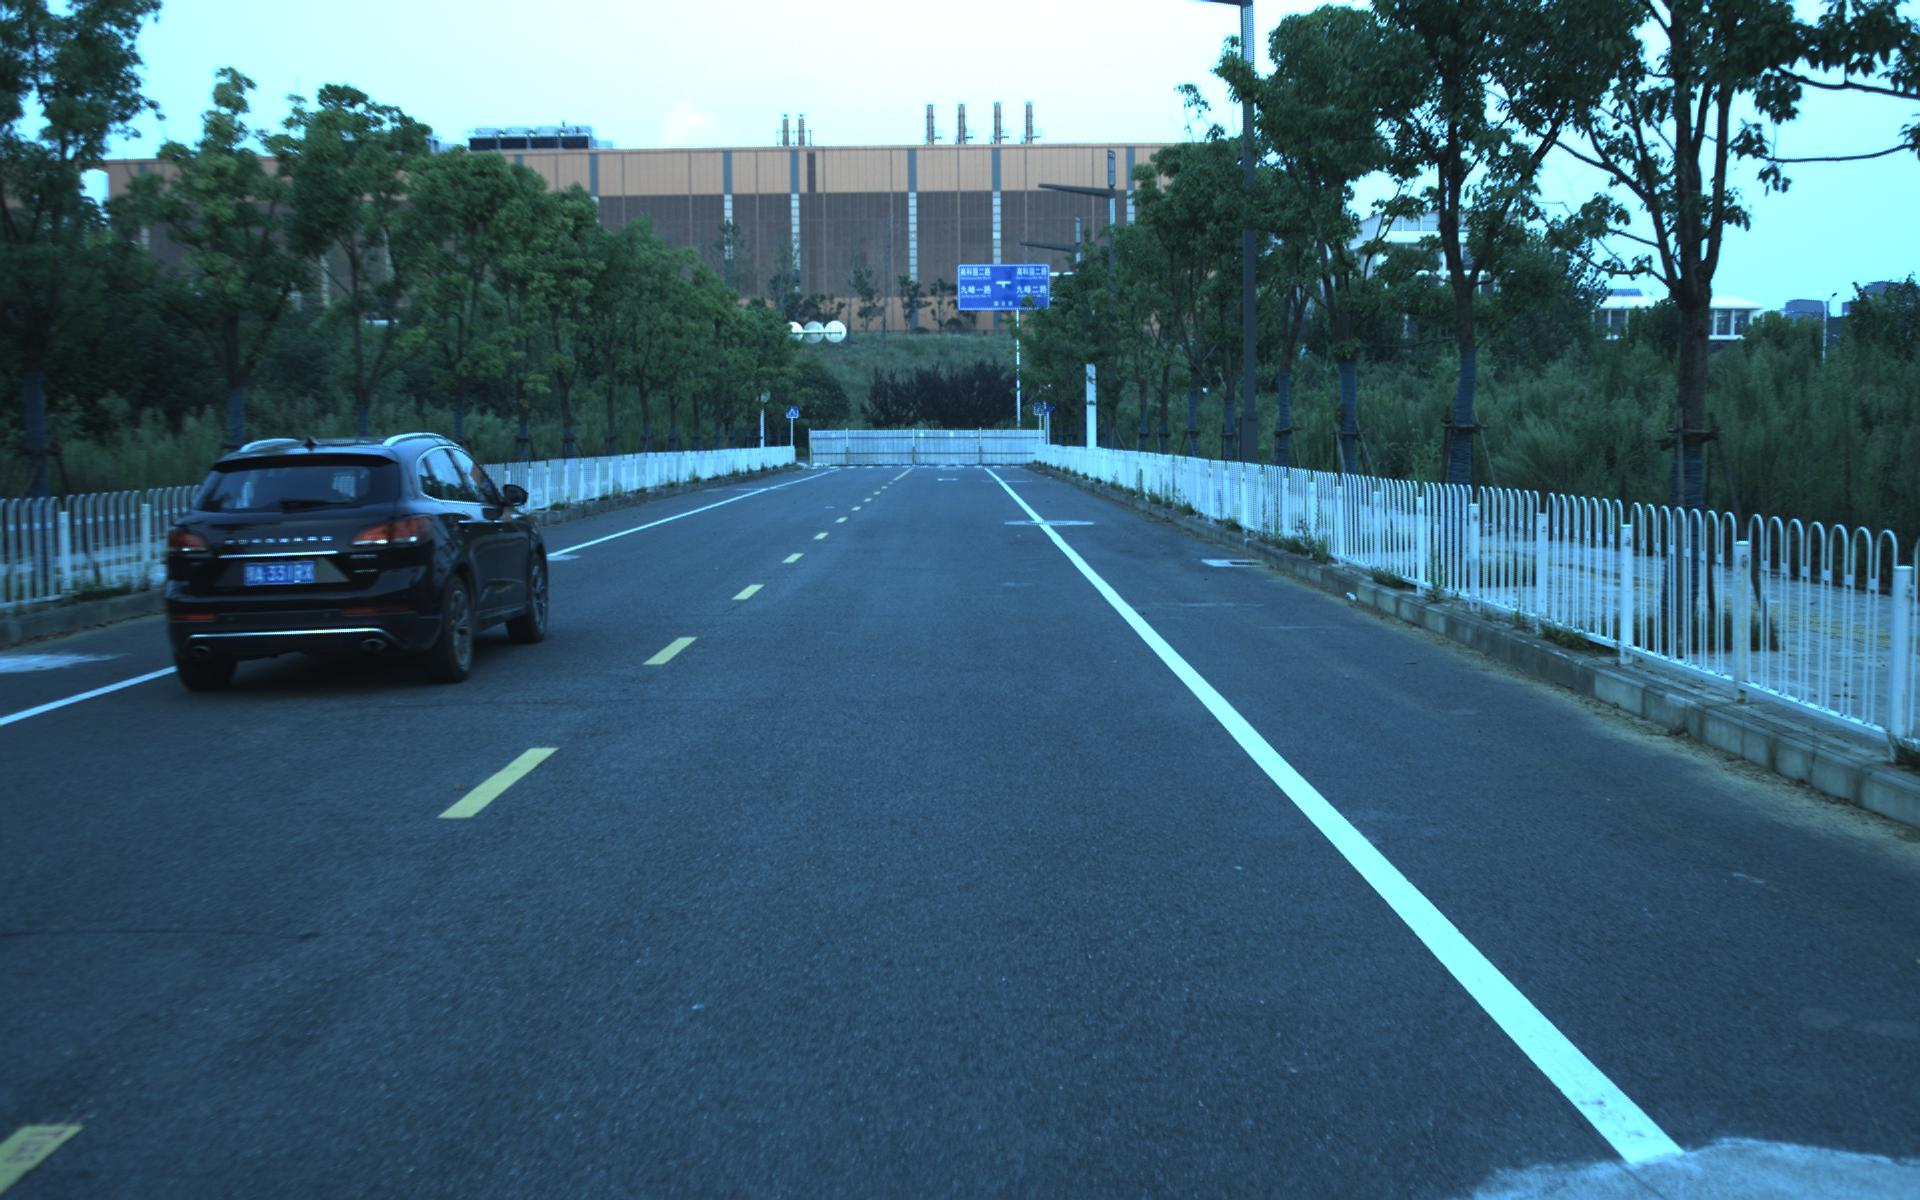Car: (145, 424, 556, 694)
